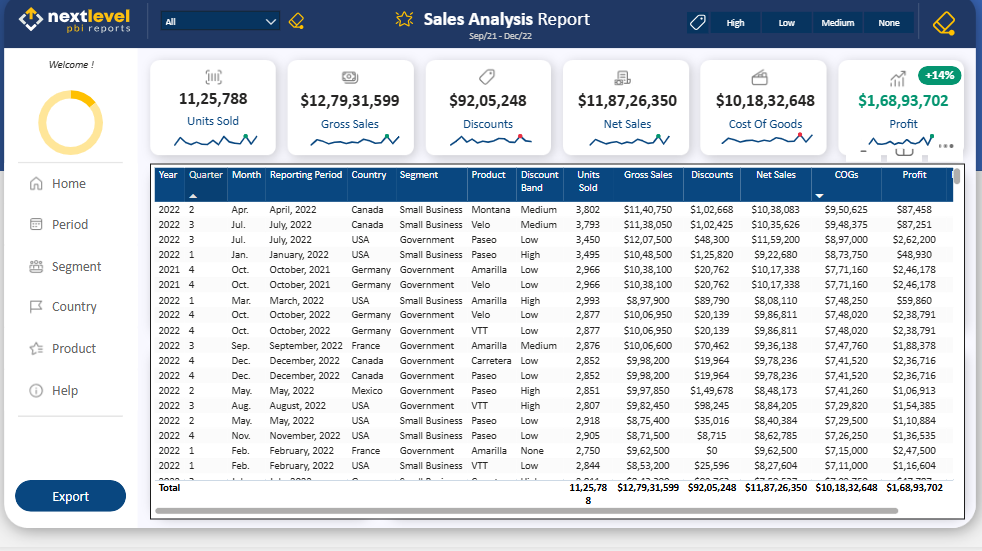

The page's visual inventory and layout, read from the dashboard file:
{"tool":"powerbi","page":{"name":"Sales Analysis","canvas":[1280,720],"ordinal":1},"visuals":[{"type":"actionButton","title":"Button Clear Discount","box":[1193,41,39,35],"z":0,"group":"g4"},{"type":"pivotTable","fields":{"Rows":["DIM_MANAGERS.Image URL"]},"box":[70,140,85,85],"z":0,"group":"g6"},{"type":"pivotTable","title":"Spark_Profit","fields":{"Values":["SparklineData(*Measures.M_Profit_[DIM_DATE.YearMonth])"]},"box":[1088,164,160,64],"z":0,"group":"g2"},{"type":"areaChart","title":"Units Sold by  Period","fields":{"Category":["DIM_DATE.Reporting Period"],"Y":["*Measures.M_Units Sold"]},"box":[216,246,320,200],"z":0,"group":"g1"},{"type":"actionButton","title":"Button_Period _Active","box":[28,289,168,50],"z":0,"group":"g5"},{"type":"actionButton","title":"Button_Export","box":[42,635,140,40],"z":0,"group":"g3"},{"type":"shape","title":"Shape_Divider Right","box":[1163,35,32,45],"z":500,"group":"g4"},{"type":"shape","title":"Shape Hide Mgr Image","box":[64,144,85,85],"z":1000,"group":"g6"},{"type":"pivotTable","title":"Spark_COG","fields":{"Values":["SparklineData(*Measures.M_Cost Of Goods_[DIM_DATE.YearMonth])"]},"box":[902,164,160,64],"z":1000,"group":"g2"},{"type":"areaChart","title":"Net Sales by  Period","fields":{"Category":["DIM_DATE.Reporting Period"],"Y":["*Measures.M_Net Sales"]},"box":[564,246,320,192],"z":1000,"group":"g1"},{"type":"actionButton","box":[166,289,30,50],"z":1000,"group":"g5"},{"type":"shape","title":"Shape_divider 2","box":[45,539,132,32],"z":1000,"group":"g3"},{"type":"slicer","title":"Slicer Discount","fields":{"Values":["FACT_SALES.Discount Band"]},"box":[892,38,306,41],"z":1250,"group":"g4"},{"type":"actionButton","title":"Button_Discount Icon","box":[888,45,27,27],"z":1625,"group":"g4"},{"type":"card","title":"Card_Date_Range","fields":{"Values":["*Measures.M_Date Selection"]},"box":[591,59.3,123,38],"z":1812,"group":"g4"},{"type":"textbox","title":"Text box_Titles","box":[551,34.3,235,41],"z":1906,"group":"g4"},{"type":"donutChart","title":"Donut_chart","fields":{"Y":["*Measures.M_Profit Margin","*Measures.M_100% Minus Profit Margin"]},"box":[48,128,128,112],"z":2000,"group":"g6"},{"type":"pivotTable","title":"Spark_Net Sales","fields":{"Values":["SparklineData(*Measures.M_Net Sales_[DIM_DATE.YearMonth])"]},"box":[736.8,164,160,64],"z":2000,"group":"g2"},{"type":"shape","title":"Shape_divider 1","box":[45,218,132,32],"z":2000,"group":"g3"},{"type":"areaChart","title":"Profit by  Period","fields":{"Category":["DIM_DATE.Reporting Period"],"Y":["*Measures.M_Profit"]},"box":[912,246,320,192],"z":2000,"group":"g1"},{"type":"actionButton","title":"Button_Title Icon","box":[501,34.3,63,40],"z":3000,"group":"g4"},{"type":"shape","title":"Shape_Scroll Hide","box":[144,128,24,24],"z":3000,"group":"g6"},{"type":"pivotTable","title":"Spark_Discounts","fields":{"Values":["SparklineData(*Measures.M_Discounts_[DIM_DATE.YearMonth])"]},"box":[561.2,164,160,64],"z":3000,"group":"g2"},{"type":"areaChart","title":"COGs by  Period","fields":{"Category":["DIM_DATE.Reporting Period"],"Y":["*Measures.M_Cost Of Goods"]},"box":[200,475,300,200],"z":3000,"group":"g1"},{"type":"actionButton","title":"Button_Help","box":[28,496,168,50],"z":3000,"group":"g3"},{"type":"card","title":"Card_Welcome","fields":{"Values":["*Measures.M_User Greeting"]},"box":[32,96,160,32],"z":4000,"group":"g6"},{"type":"pivotTable","title":"Spark_Gross sales","fields":{"Values":["SparklineData(*Measures.M_Gross Sales_[DIM_DATE.YearMonth])"]},"box":[385.6,164,160,64],"z":4000,"group":"g2"},{"type":"group","id":"g1","title":"Period","box":[200,238,1038,440],"z":4000},{"type":"tableEx","title":"Table_Period","fields":{"Values":["DIM_DATE.Reporting Period","*Measures.M_Units Sold","*Measures.M_Gross Sales","*Measures.M_Discounts","*Measures.M_Net Sales","*Measures.M_Cost Of Goods","*Measures.M_Profit","*Measures.M_Profit Margin Formatted"]},"box":[507,473,731,205],"z":4000,"group":"g1"},{"type":"group","id":"g2","title":"Static","box":[213,103,1035,399],"z":5000},{"type":"pivotTable","title":"Spark_Unit Sold","fields":{"Values":["SparklineData(*Measures.M_Units Sold_[DIM_DATE.YearMonth])"]},"box":[213,164,157,68],"z":5000,"group":"g2"},{"type":"shape","title":"Shape_Profit YOY","box":[1142,246,88,24],"z":5000,"group":"g1"},{"type":"actionButton","title":"Button_Product","box":[28,443.8,168,50],"z":5000,"group":"g3"},{"type":"group","id":"g3","title":"Navigation","box":[28,96,168,579],"z":6000},{"type":"card","title":"Card_Profit","fields":{"Values":["*Measures.M_Profit"]},"box":[1088,119,144,96],"z":6000,"group":"g2"},{"type":"card","title":"Card_Profit YOY","fields":{"Values":["*Measures.M_Profit YOY% Formatted"]},"box":[1142,238,87,42],"z":6000,"group":"g1"},{"type":"group","id":"g4","title":"Header","box":[45,34.3,1187,63],"z":7000},{"type":"card","title":"Card_COG","fields":{"Values":["*Measures.M_Cost Of Goods"]},"box":[913.8,119,144,96],"z":7000,"group":"g2"},{"type":"actionButton","title":"Button_Country","box":[28,391.6,168,50],"z":7000,"group":"g3"},{"type":"actionButton","title":"Button_Clear Managers","box":[378,44,36,25],"z":8000,"group":"g4"},{"type":"card","title":"Card_Net Sales","fields":{"Values":["*Measures.M_Net Sales"]},"box":[739.6,119,144,96],"z":8000,"group":"g2"},{"type":"shape","title":"Shape_Divider Left","box":[192,35,32,45],"z":9000,"group":"g4"},{"type":"card","title":"Card_Discounts","fields":{"Values":["*Measures.M_Discounts"]},"box":[565.4,119,144,96],"z":9000,"group":"g2"},{"type":"actionButton","title":"Button_Segment","box":[28,339.4,168,50],"z":9000,"group":"g3"},{"type":"slicer","title":"Slicer_Managers","fields":{"Values":["DIM_MANAGERS.Manager Name"]},"box":[216,35,170,45],"z":9250,"group":"g4"},{"type":"actionButton","title":"Button Logo","box":[45,37,145,38],"z":9500,"group":"g4"},{"type":"card","title":"Card_Gross Sales","fields":{"Values":["*Measures.M_Gross Sales"]},"box":[391.2,119,144,96],"z":10000,"group":"g2"},{"type":"group","id":"g5","title":"Button_Period _Active","box":[28,289,168,50],"z":10000,"group":"g3"},{"type":"card","title":"Card_Units Sold","fields":{"Values":["*Measures.M_Units Sold"]},"box":[218,119,143,89],"z":11000,"group":"g2"},{"type":"actionButton","title":"Button_Profit Icon","box":[1138,112,32,32],"z":12000,"group":"g2"},{"type":"actionButton","title":"Button_Home","box":[28,235,168,50],"z":12000,"group":"g3"},{"type":"group","id":"g6","title":"Group_Mgr Images","box":[32,96,160,144],"z":13000,"group":"g3"},{"type":"actionButton","title":"Button_COG Icon","box":[963.8,110,32,32],"z":13000,"group":"g2"},{"type":"actionButton","title":"Button_NetSales Icon","box":[791.6,110,32,32],"z":14000,"group":"g2"},{"type":"actionButton","title":"Button_Discounts Icon","box":[619.4,110,32,32],"z":15000,"group":"g2"},{"type":"actionButton","title":"Button_Gross Sales Icon","box":[447.2,110,32,32],"z":16000,"group":"g2"},{"type":"actionButton","title":"Button_Units Sold Icon","box":[275,110,32,32],"z":17000,"group":"g2"},{"type":"shape","title":"Shape_Profit Margin","box":[1179,112,55,24],"z":18000,"group":"g2"},{"type":"card","title":"Card_Profit Margin","fields":{"Values":["*Measures.M_Profit Margin Formatted"]},"box":[1178,103,54,42],"z":19000,"group":"g2"},{"type":"actionButton","title":"Button_Profit Icon","box":[915,243,32,32],"z":20000,"group":"g2"},{"type":"actionButton","title":"Button_COG Icon","box":[222,470,32,32],"z":21000,"group":"g2"},{"type":"actionButton","title":"Button_NetSales Icon","box":[568.5,243,32,32],"z":22000,"group":"g2"},{"type":"actionButton","title":"Button_Units Sold Icon","box":[222,243,32,32],"z":23000,"group":"g2"}]}

Visuals, with their boxes in screenshot pixels (x1, y1, x2, y2), scaled from the page's 1280x720 canvas onto the 982x551 screenshot:
"Button Clear Discount" actionButton: 915 31 945 58
pivotTable - DIM_MANAGERS.Image URL: 54 107 119 172
"Spark_Profit" pivotTable: 835 126 957 174
"Units Sold by  Period" areaChart: 166 188 411 341
"Button_Period _Active" actionButton: 21 221 150 259
"Button_Export" actionButton: 32 486 140 517
"Shape_Divider Right" shape: 892 27 917 61
"Shape Hide Mgr Image" shape: 49 110 114 175
"Spark_COG" pivotTable: 692 126 815 174
"Net Sales by  Period" areaChart: 433 188 678 335
actionButton: 127 221 150 259
"Shape_divider 2" shape: 35 412 136 437
"Slicer Discount" slicer: 684 29 919 60
"Button_Discount Icon" actionButton: 681 34 702 55
"Card_Date_Range" card: 453 45 548 74
"Text box_Titles" textbox: 423 26 603 58
"Donut_chart" donutChart: 37 98 135 184
"Spark_Net Sales" pivotTable: 565 126 688 174
"Shape_divider 1" shape: 35 167 136 191
"Profit by  Period" areaChart: 700 188 945 335
"Button_Title Icon" actionButton: 384 26 433 57
"Shape_Scroll Hide" shape: 110 98 129 116
"Spark_Discounts" pivotTable: 431 126 553 174
"COGs by  Period" areaChart: 153 364 384 517
"Button_Help" actionButton: 21 380 150 418
"Card_Welcome" card: 25 73 147 98
"Spark_Gross sales" pivotTable: 296 126 419 174
"Period" group: 153 182 950 519
"Table_Period" tableEx: 389 362 950 519
"Static" group: 163 79 957 384
"Spark_Unit Sold" pivotTable: 163 126 284 178
"Shape_Profit YOY" shape: 876 188 944 207
"Button_Product" actionButton: 21 340 150 378
"Navigation" group: 21 73 150 517
"Card_Profit" card: 835 91 945 165
"Card_Profit YOY" card: 876 182 943 214
"Header" group: 35 26 945 74
"Card_COG" card: 701 91 812 165
"Button_Country" actionButton: 21 300 150 338
"Button_Clear Managers" actionButton: 290 34 318 53
"Card_Net Sales" card: 567 91 678 165
"Shape_Divider Left" shape: 147 27 172 61
"Card_Discounts" card: 434 91 544 165
"Button_Segment" actionButton: 21 260 150 298
"Slicer_Managers" slicer: 166 27 296 61
"Button Logo" actionButton: 35 28 146 57
"Card_Gross Sales" card: 300 91 411 165
"Button_Period _Active" group: 21 221 150 259
"Card_Units Sold" card: 167 91 277 159
"Button_Profit Icon" actionButton: 873 86 898 110
"Button_Home" actionButton: 21 180 150 218
"Group_Mgr Images" group: 25 73 147 184
"Button_COG Icon" actionButton: 739 84 764 109
"Button_NetSales Icon" actionButton: 607 84 632 109
"Button_Discounts Icon" actionButton: 475 84 500 109
"Button_Gross Sales Icon" actionButton: 343 84 368 109
"Button_Units Sold Icon" actionButton: 211 84 236 109
"Shape_Profit Margin" shape: 905 86 947 104
"Card_Profit Margin" card: 904 79 945 111
"Button_Profit Icon" actionButton: 702 186 727 210
"Button_COG Icon" actionButton: 170 360 195 384
"Button_NetSales Icon" actionButton: 436 186 461 210
"Button_Units Sold Icon" actionButton: 170 186 195 210
